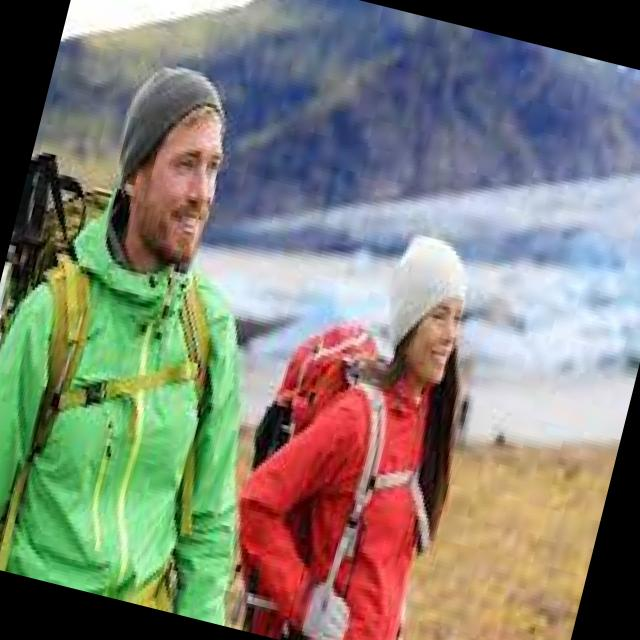Jacket: (0, 210, 306, 625), (205, 321, 488, 640)
